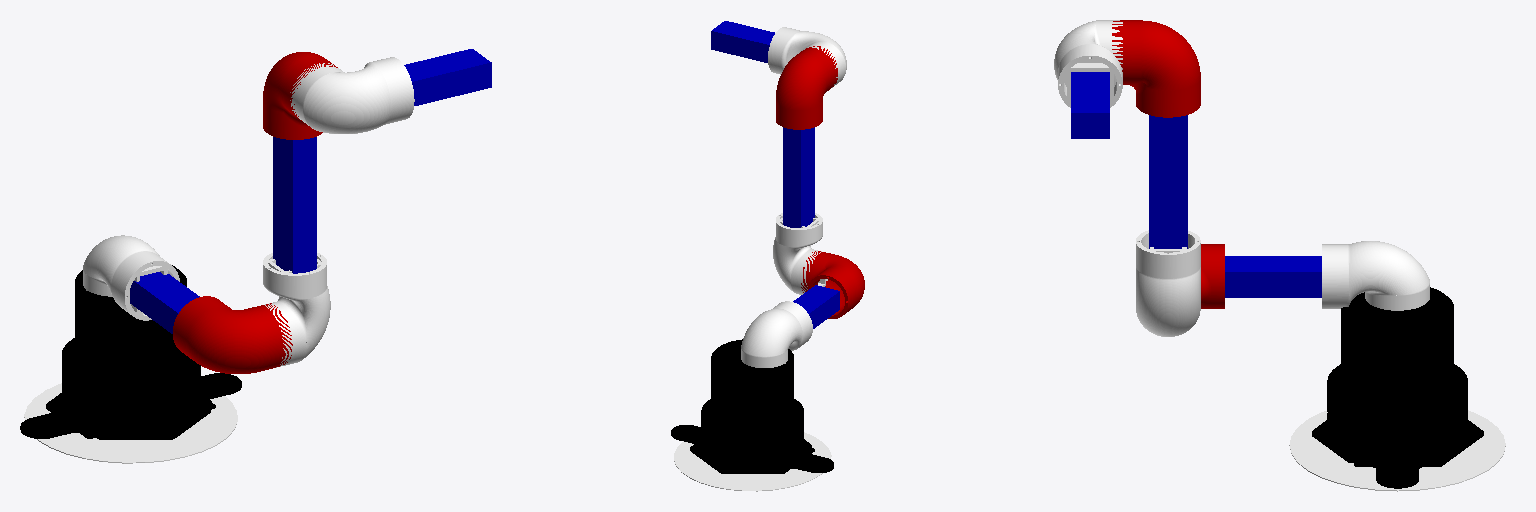
robot.urdf — node71:
<?xml version="1.0"?>
<robot  name="node71" >
 <material  name="blue" >
  <color  rgba="0 0 0.8 1.0" />
 </material>
 <material  name="red" >
  <color  rgba="0.8 0 0 1.0" />
 </material>
 <material  name="white" >
  <color  rgba="1.0 1.0 1.0 0.4" />
 </material>
 <material  name="black" >
  <color  rgba="0.0 0.0 0.0 1.0" />
 </material>
 <link  name="root_mod" >
  <visual >
   <origin  xyz="0 0 0"  rpy="0 0 0" />
   <material  name="white" />
   <geometry >
    <cylinder  length="0.001"  radius="0.1" />
   </geometry>
  </visual>
 </link>
 <link  name="baseMod_1" >
  <inertial >
   <origin  xyz="0.0 1.2212453270876722e-17 0.055"  rpy="1.5707963267948963 0.0 0.0" />
   <mass  value="1.245" />
   <inertia  iyz="1.5e-05"  ixx="0.002797"  ixz="-0.0"  ixy="-0.0"  izz="0.003107"  iyy="0.002417" />
  </inertial>
  <visual >
   <origin  xyz="0.0 1.2212453270876722e-17 0.055"  rpy="1.5707963267948963 0.0 0.0" />
   <material  name="black" />
   <geometry >
    <mesh  filename="./meshes/base-big-360.obj"  scale="0.001 0.001 0.001" />
   </geometry>
  </visual>
 </link>
 <joint  name="joint_1_fixed"  type="fixed" >
  <parent  link="root_mod" />
  <child  link="baseMod_1" />
  <origin  xyz="0.0 0.0 0.01"  rpy="0 0 0" />
  <limit  effort="50"  upper="3.14"  velocity="10"  lower="-3.14" />
 </joint>
 <link  name="connMod_2" >
  <inertial >
   <origin  xyz="0.0 4.440892098500626e-18 0.02"  rpy="1.5707963267948963 0.0 0.0" />
   <mass  value="0.263" />
   <inertia  iyz="-1.5e-05"  ixx="0.000226"  ixz="-0.0"  ixy="0.0"  izz="0.000125"  iyy="0.00023" />
  </inertial>
  <visual >
   <origin  xyz="0.0 4.440892098500626e-18 0.02"  rpy="1.5707963267948963 0.0 0.0" />
   <material  name="white" />
   <geometry >
    <mesh  filename="./meshes/90-connector.obj"  scale="0.001 0.001 0.001" />
   </geometry>
  </visual>
 </link>
 <joint  name="joint_2_revolute"  type="revolute" >
  <parent  link="baseMod_1" />
  <child  link="connMod_2" />
  <origin  xyz="-0.0175 2.964295475749168e-17 0.1335"  rpy="0 0 0" />
  <axis  xyz="0.0 0.0 1.0" />
  <limit  velocity="10"  upper="3.14"  effort="50"  lower="-3.14" />
 </joint>
 <transmission  name="act_joint_2_revolute" >
  <type  xmltext="SimpleTransmission" >
   SimpleTransmission
  </type>
  <actuator  name="trans_joint_2_revolute" >
   <mechanicalreduction  xmltext="1" >
    1
   </mechanicalreduction>
  </actuator>
  <joint  name="joint_2_revolute" />
 </transmission>
 <link  name="linkMod_3" >
  <inertial >
   <origin  xyz="-1.3766765505351941e-17 0.062 0.0"  rpy="0.0 0.0 -1.5707963267948963" />
   <mass  value="0.05" />
   <inertia  iyz="0.0"  ixx="6.5e-05"  ixz="0.0"  ixy="0.0"  izz="0.000206"  iyy="0.000206" />
  </inertial>
  <visual >
   <origin  xyz="-1.3766765505351941e-17 0.062 0.0"  rpy="0.0 0.0 -1.5707963267948963" />
   <material  name="blue" />
   <geometry >
    <mesh  filename="./meshes/link-100.obj"  scale="0.001 0.001 0.001" />
   </geometry>
  </visual>
 </link>
 <joint  name="joint_3_fixed"  type="fixed" >
  <parent  link="connMod_2" />
  <child  link="linkMod_3" />
  <origin  xyz="0.0 -0.05999999999999999 0.020000000000000014"  rpy="0 0 0" />
  <axis  xyz="0.0 -1.0 0.0" />
  <limit  effort="50"  upper="3.14"  velocity="10"  lower="-3.14" />
 </joint>
 <link  name="jointMod_4" >
  <inertial >
   <origin  xyz="-1.1546319456101627e-17 -0.052 0.0"  rpy="0.0 0.0 1.5707963267948963" />
   <mass  value="0.184" />
   <inertia  iyz="0.0"  ixx="7.8e-05"  ixz="-0.0"  ixy="-1.3e-05"  izz="9e-05"  iyy="7.8e-05" />
  </inertial>
  <visual >
   <origin  xyz="-1.1546319456101627e-17 -0.052 0.0"  rpy="0.0 0.0 1.5707963267948963" />
   <material  name="red" />
   <geometry >
    <mesh  filename="./meshes/90-joint.obj"  scale="0.001 0.001 0.001" />
   </geometry>
  </visual>
 </link>
 <joint  name="joint_4_fixed"  type="fixed" >
  <parent  link="linkMod_3" />
  <child  link="jointMod_4" />
  <origin  xyz="2.2204460492503132e-17 -0.1 0.0"  rpy="0 0 0" />
  <axis  xyz="0.0 -1.0 0.0" />
  <limit  velocity="10"  upper="3.14"  effort="50"  lower="-3.14" />
 </joint>
 <link  name="connMod_5" >
  <inertial >
   <origin  xyz="0.02 4.440892098500626e-18 0.0"  rpy="0.0 0.0 -1.5707963267948963" />
   <mass  value="0.263" />
   <inertia  iyz="-1.5e-05"  ixx="0.000226"  ixz="-0.0"  ixy="0.0"  izz="0.000125"  iyy="0.00023" />
  </inertial>
  <visual >
   <origin  xyz="0.02 4.440892098500626e-18 0.0"  rpy="0.0 0.0 -1.5707963267948963" />
   <material  name="white" />
   <geometry >
    <mesh  filename="./meshes/90-connector.obj"  scale="0.001 0.001 0.001" />
   </geometry>
  </visual>
 </link>
 <joint  name="joint_5_revolute"  type="revolute" >
  <parent  link="jointMod_4" />
  <child  link="connMod_5" />
  <origin  xyz="0.051999999999999984 -0.05200000000000001 0.0"  rpy="0 0 0" />
  <axis  xyz="1.0 -0.0 0.0" />
  <limit  effort="50"  upper="3.14"  velocity="10"  lower="-3.14" />
 </joint>
 <transmission  name="act_joint_5_revolute" >
  <type  xmltext="SimpleTransmission" >
   SimpleTransmission
  </type>
  <actuator  name="trans_joint_5_revolute" >
   <mechanicalreduction  xmltext="1" >
    1
   </mechanicalreduction>
  </actuator>
  <joint  name="joint_5_revolute" />
 </transmission>
 <link  name="linkMod_6" >
  <inertial >
   <origin  xyz="-1.3766765505351941e-17 0.0 -0.062"  rpy="0.0 -1.5707963267948966 0.0" />
   <mass  value="0.167" />
   <inertia  iyz="0.0"  ixx="2.7e-05"  ixz="0.0"  ixy="0.0"  izz="0.000331"  iyy="0.000322" />
  </inertial>
  <visual >
   <origin  xyz="-1.3766765505351941e-17 0.0 -0.062"  rpy="0.0 -1.5707963267948966 0.0" />
   <material  name="blue" />
   <geometry >
    <mesh  filename="./meshes/link-150.obj"  scale="0.001 0.001 0.001" />
   </geometry>
  </visual>
 </link>
 <joint  name="joint_6_fixed"  type="fixed" >
  <parent  link="connMod_5" />
  <child  link="linkMod_6" />
  <origin  xyz="0.02 4.440892098500626e-18 0.06"  rpy="0 0 0" />
  <axis  xyz="0.0 0.0 1.0" />
  <limit  velocity="10"  upper="3.14"  effort="50"  lower="-3.14" />
 </joint>
 <link  name="jointMod_7" >
  <inertial >
   <origin  xyz="-1.1546319456101627e-17 0.0 0.052"  rpy="-0.0 1.5707963267948966 0.0" />
   <mass  value="0.184" />
   <inertia  iyz="0.0"  ixx="7.8e-05"  ixz="-0.0"  ixy="-1.3e-05"  izz="9e-05"  iyy="7.8e-05" />
  </inertial>
  <visual >
   <origin  xyz="-1.1546319456101627e-17 0.0 0.052"  rpy="-0.0 1.5707963267948966 0.0" />
   <material  name="red" />
   <geometry >
    <mesh  filename="./meshes/90-joint.obj"  scale="0.001 0.001 0.001" />
   </geometry>
  </visual>
 </link>
 <joint  name="joint_7_fixed"  type="fixed" >
  <parent  link="linkMod_6" />
  <child  link="jointMod_7" />
  <origin  xyz="3.3306690738754695e-17 0.0 0.15"  rpy="0 0 0" />
  <axis  xyz="0.0 0.0 1.0" />
  <limit  effort="50"  upper="3.14"  velocity="10"  lower="-3.14" />
 </joint>
 <link  name="connMod_8" >
  <inertial >
   <origin  xyz="2.49954083116211e-10 -0.01999999999999999 -2.499540824390027e-10"  rpy="-3.141592641092089 -1.5707963009853283 0.0" />
   <mass  value="0.263" />
   <inertia  iyz="-1.5e-05"  ixx="0.000226"  ixz="-0.0"  ixy="0.0"  izz="0.000125"  iyy="0.00023" />
  </inertial>
  <visual >
   <origin  xyz="2.49954083116211e-10 -0.01999999999999999 -2.499540824390027e-10"  rpy="-3.141592641092089 -1.5707963009853283 0.0" />
   <material  name="white" />
   <geometry >
    <mesh  filename="./meshes/90-connector.obj"  scale="0.001 0.001 0.001" />
   </geometry>
  </visual>
 </link>
 <joint  name="joint_8_revolute"  type="revolute" >
  <parent  link="jointMod_7" />
  <child  link="connMod_8" />
  <origin  xyz="-1.1546319456101627e-17 -0.052 0.052"  rpy="0 0 0" />
  <axis  xyz="0.0 -1.0 0.0" />
  <limit  velocity="10"  upper="3.14"  effort="50"  lower="-3.14" />
 </joint>
 <transmission  name="act_joint_8_revolute" >
  <type  xmltext="SimpleTransmission" >
   SimpleTransmission
  </type>
  <actuator  name="trans_joint_8_revolute" >
   <mechanicalreduction  xmltext="1" >
    1
   </mechanicalreduction>
  </actuator>
  <joint  name="joint_8_revolute" />
 </transmission>
 <link  name="linkMod_9" >
  <inertial >
   <origin  xyz="-0.062 0.0 0.0"  rpy="0.0 0.0 0.0" />
   <mass  value="0.05" />
   <inertia  iyz="0.0"  ixx="6.5e-05"  ixz="0.0"  ixy="0.0"  izz="0.000206"  iyy="0.000206" />
  </inertial>
  <visual >
   <origin  xyz="-0.062 0.0 0.0"  rpy="0.0 0.0 0.0" />
   <material  name="blue" />
   <geometry >
    <mesh  filename="./meshes/link-100.obj"  scale="0.001 0.001 0.001" />
   </geometry>
  </visual>
 </link>
 <joint  name="joint_9_fixed"  type="fixed" >
  <parent  link="connMod_8" />
  <child  link="linkMod_9" />
  <origin  xyz="0.06000000024995406 -0.01999999925013774 -8.739423883000921e-11"  rpy="0 0 0" />
  <axis  xyz="1.0 0.0 0.0" />
  <limit  effort="50"  upper="3.14"  velocity="10"  lower="-3.14" />
 </joint>
 <link  name="eef" />
 <joint  name="eef_joint"  type="fixed" >
  <parent  link="linkMod_9" />
  <child  link="eef" />
  <origin  xyz="0.1 0.0 0.0"  rpy="0 0 0" />
  <axis  xyz="1.0 0.0 0.0" />
  <limit  velocity="10"  upper="3.14"  effort="50"  lower="-3.14" />
 </joint>
</robot>

--- What the picture shows (computed from the rendered views, not written in the file) ---
Views: 3 orthographic renders of the robot side by side, from view 1: azimuth 30°, elevation 25°; view 2: azimuth 150°, elevation 25°; view 3: azimuth 270°, elevation 25°.
Robot: node71 — 11 links, 10 joints (3 revolute, 7 fixed); root link root_mod; default pose: every joint at zero.
Visible links, largest first — view 1: baseMod_1, connMod_8, jointMod_4, linkMod_6, root_mod, connMod_5, connMod_2, linkMod_9, jointMod_7, linkMod_3; view 2: baseMod_1, jointMod_7, connMod_2, linkMod_6, root_mod, connMod_5, jointMod_4, connMod_8, linkMod_9, linkMod_3; view 3: baseMod_1, jointMod_7, connMod_2, root_mod, connMod_5, linkMod_6, linkMod_3, connMod_8, linkMod_9, jointMod_4.
Boxes of the visible links, bbox=[...] form: baseMod_1: bbox=[20, 265, 241, 439]; connMod_8: bbox=[290, 57, 414, 133]; jointMod_4: bbox=[173, 296, 292, 373]; linkMod_6: bbox=[273, 137, 316, 273]; root_mod: bbox=[24, 383, 237, 463]; connMod_5: bbox=[263, 253, 330, 367]; connMod_2: bbox=[83, 235, 179, 320]; linkMod_9: bbox=[404, 49, 491, 105]; jointMod_7: bbox=[263, 52, 337, 139]; linkMod_3: bbox=[130, 272, 199, 333]; baseMod_1: bbox=[671, 339, 833, 473]; jointMod_7: bbox=[776, 46, 837, 129]; connMod_2: bbox=[741, 301, 812, 367]; linkMod_6: bbox=[783, 127, 814, 227]; root_mod: bbox=[674, 432, 831, 491]; connMod_5: bbox=[773, 213, 827, 294]; jointMod_4: bbox=[801, 251, 864, 318]; connMod_8: bbox=[768, 27, 846, 87]; linkMod_9: bbox=[711, 21, 774, 62]; linkMod_3: bbox=[793, 285, 839, 328]; baseMod_1: bbox=[1312, 287, 1483, 488]; jointMod_7: bbox=[1112, 20, 1200, 117]; connMod_2: bbox=[1322, 241, 1429, 310]; root_mod: bbox=[1289, 410, 1505, 491]; connMod_5: bbox=[1136, 230, 1200, 336]; linkMod_6: bbox=[1149, 115, 1187, 248]; linkMod_3: bbox=[1225, 256, 1321, 297]; connMod_8: bbox=[1054, 20, 1122, 107]; linkMod_9: bbox=[1071, 72, 1109, 138]; jointMod_4: bbox=[1201, 244, 1224, 308].
Bounding box of the posed robot: 0.3308 × 0.4175 × 0.456 m (x, y, z).
Meshes: 5 distinct files referenced, 9 mesh visuals loaded (5 OBJ).